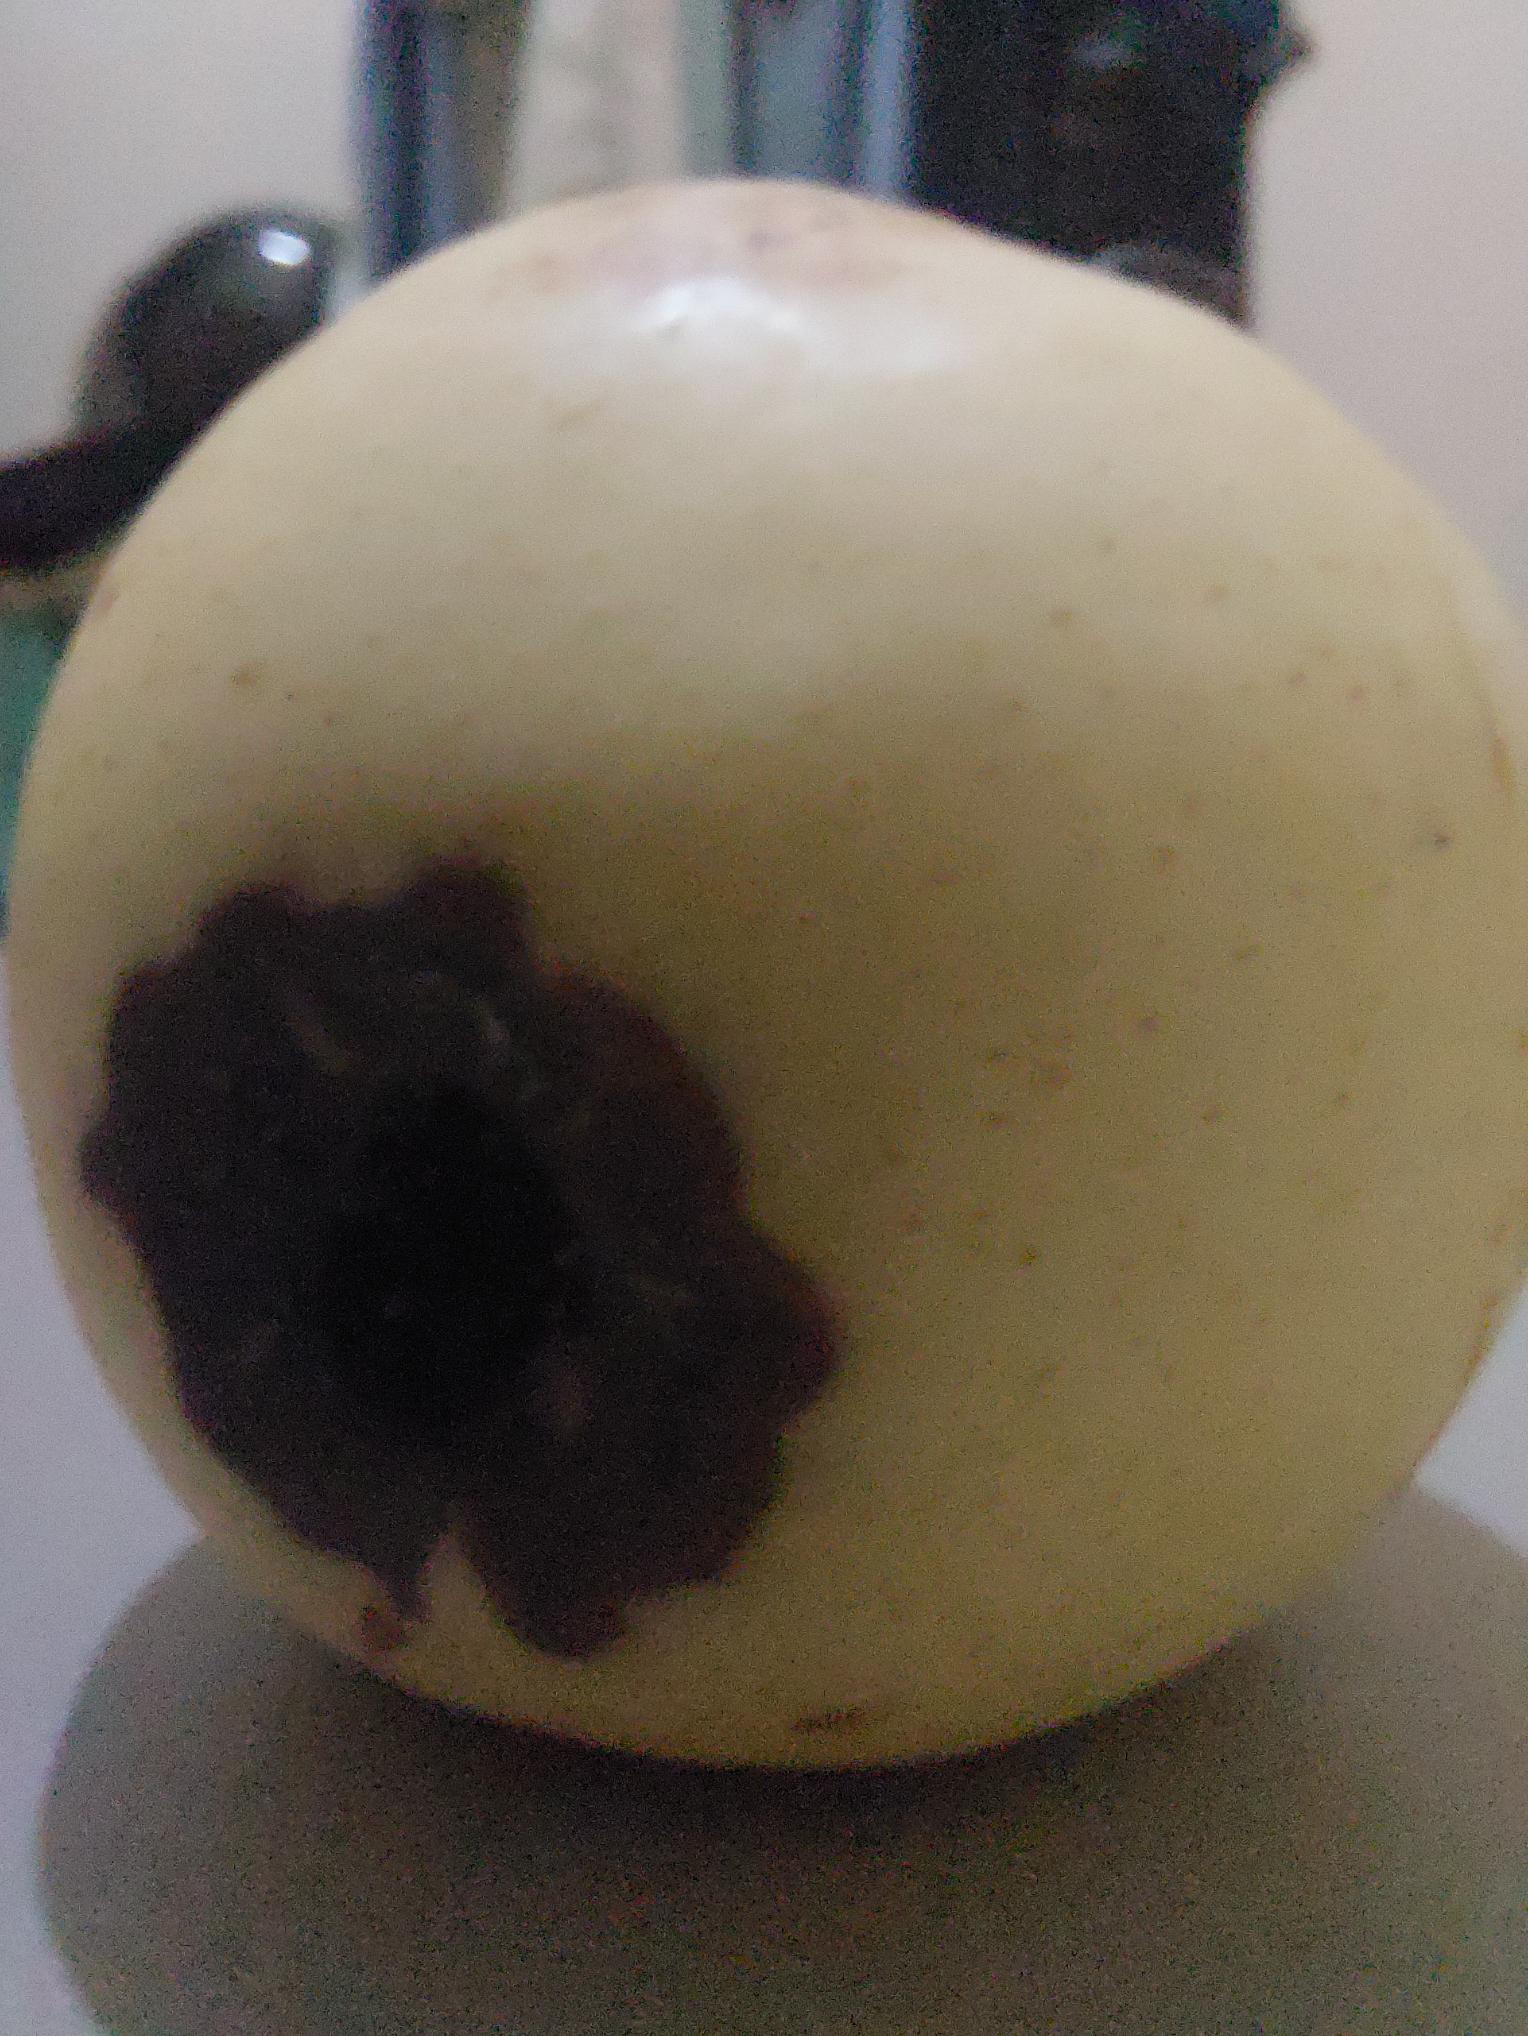Bad Pear: (0, 196, 1498, 1818)
